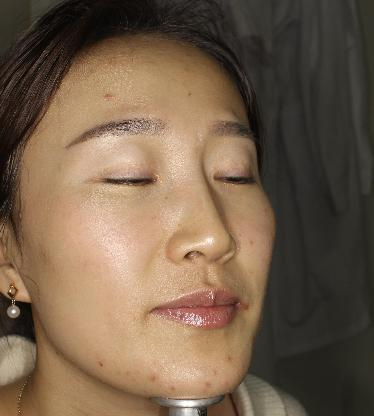Blackheads: (184, 87, 197, 99), (93, 360, 107, 371)
Papules: (101, 87, 118, 103)
acne scar: (201, 377, 216, 392), (145, 372, 159, 385)
